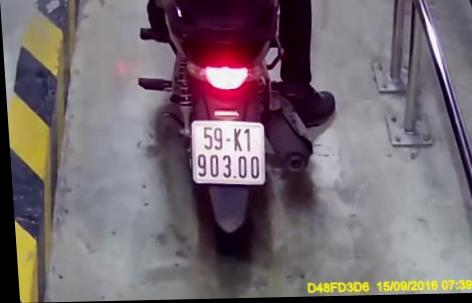License_Plate: (182, 112, 274, 193)
